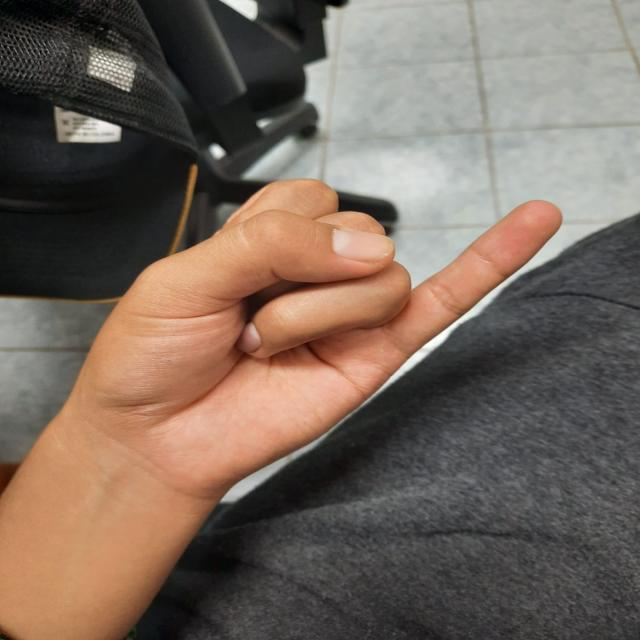Z: (25, 172, 595, 547)
